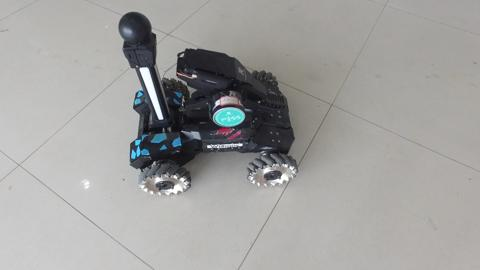chariot: (108, 7, 313, 199)
